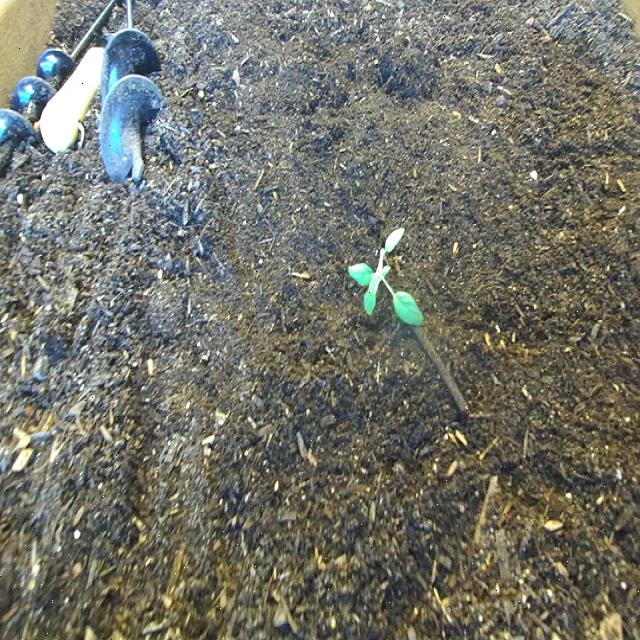Healthy: (345, 221, 427, 332)
